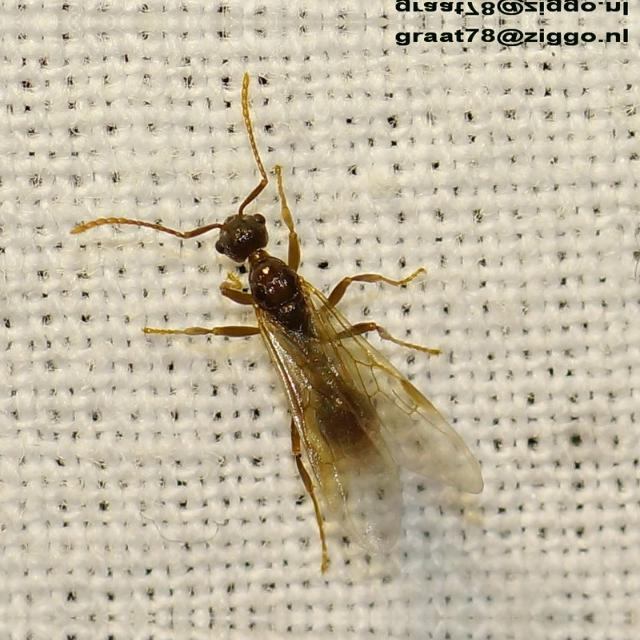Myrmica: (146, 133, 504, 541)
